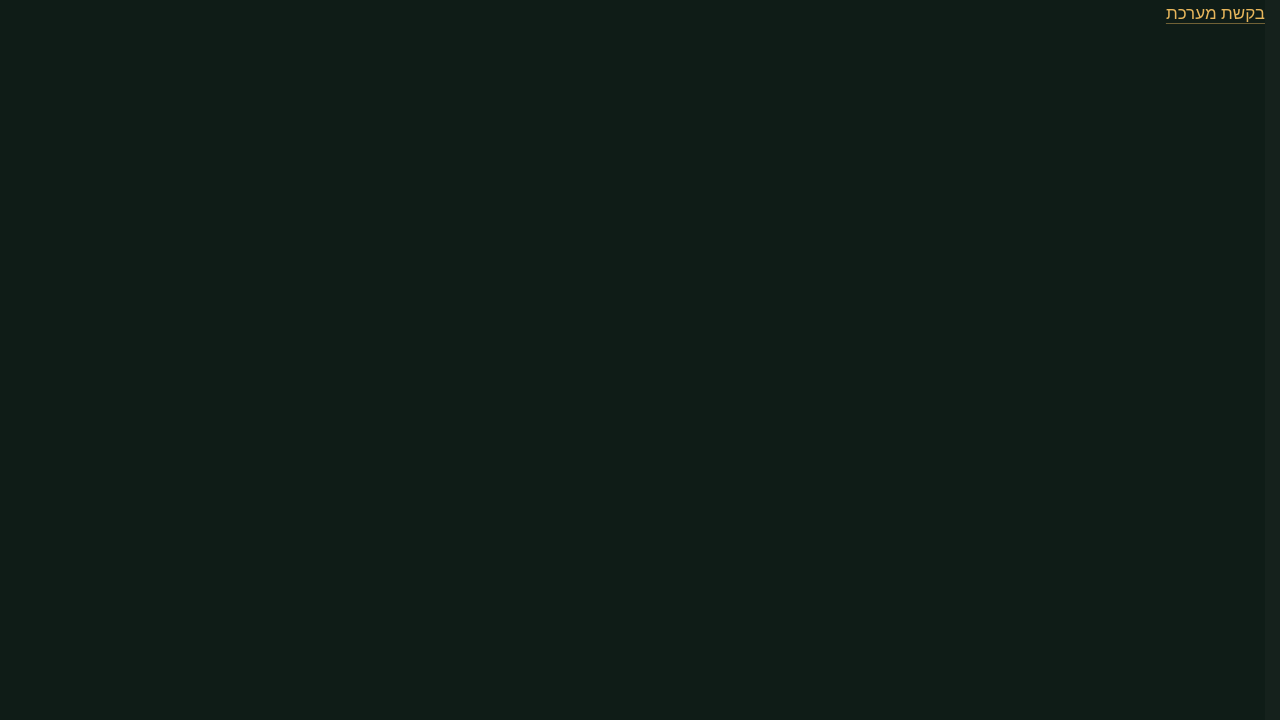
בקשת מערכת - the dialog › prefills the email when signed in (the field stays editable)
This screenshot has width=1280, height=720.
Click the button "בקשת מערכת" at (1215, 14), box top-left (1166, 0), bottom-right (1265, 27)
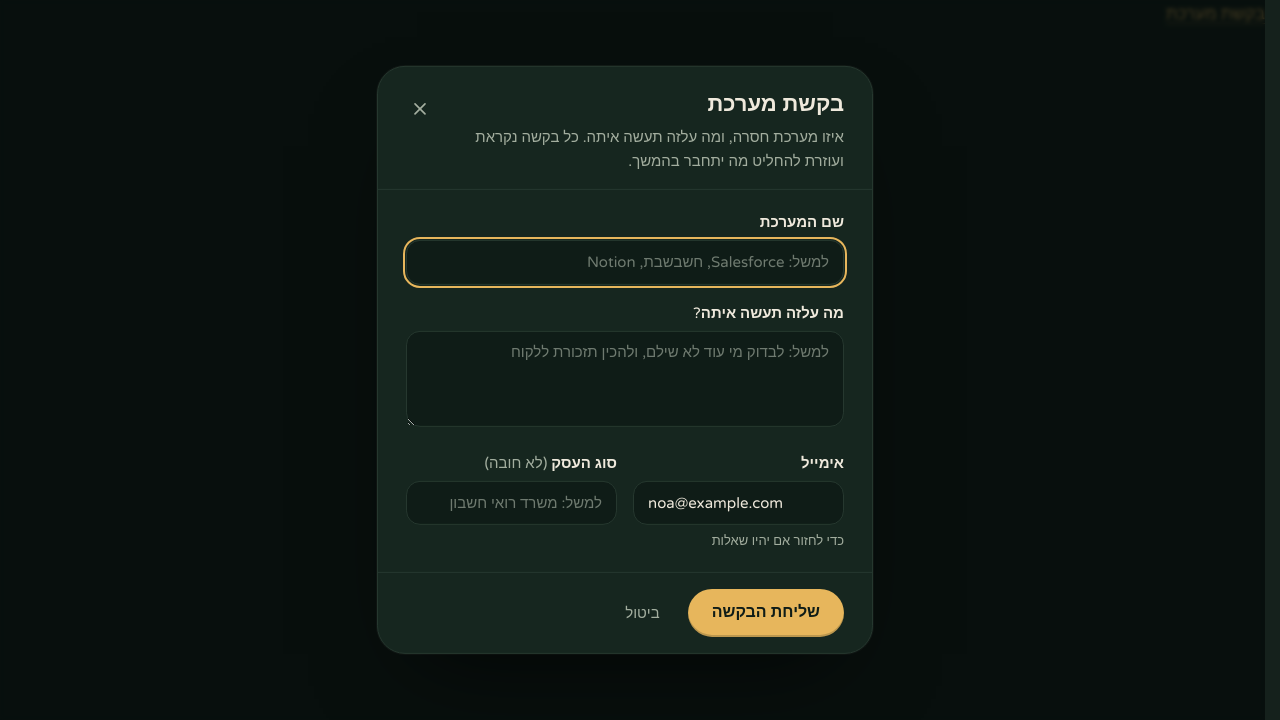
expect the field labelled "אימייל" holds "noa@example.com": met, box top-left (633, 481), bottom-right (844, 525)
